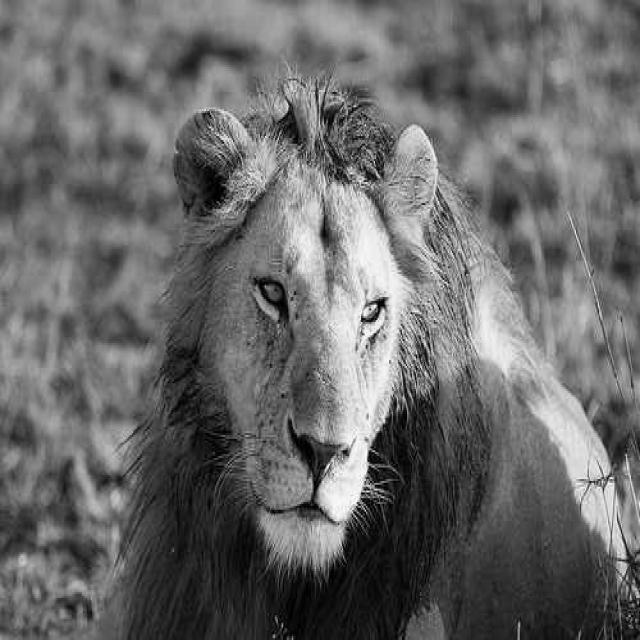Lion: (141, 52, 535, 636)
